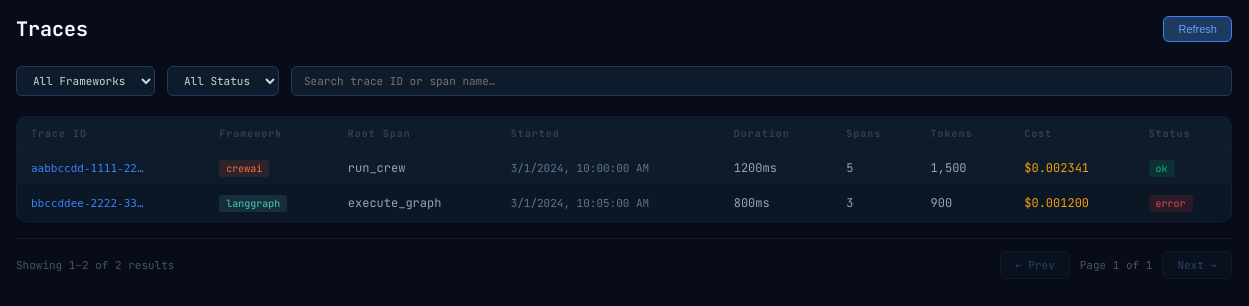
Test: TracesPage › text search shows no results message for unmatched query
The width and height of the screenshot is (1249, 306).
Step 1. Type "zzz_no_match_zzz" into the field with placeholder "Search trace ID or span name…" → (762, 81), box [291,66,1232,96]
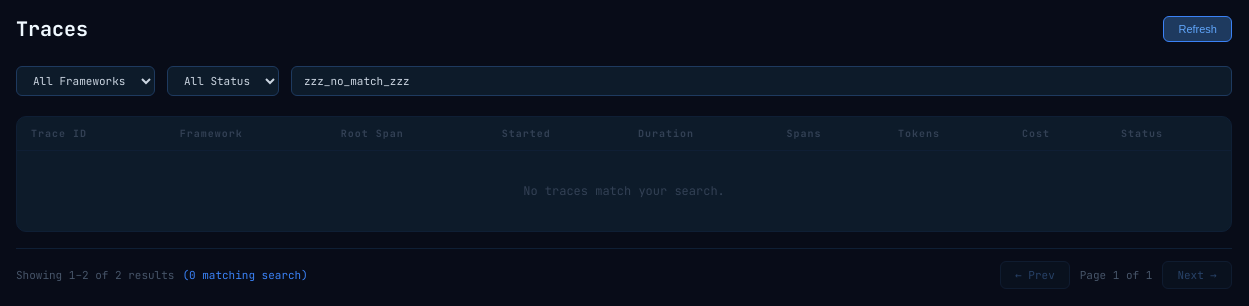
Expected: the text "No traces match your search." is shown, [17,150,1231,231]
